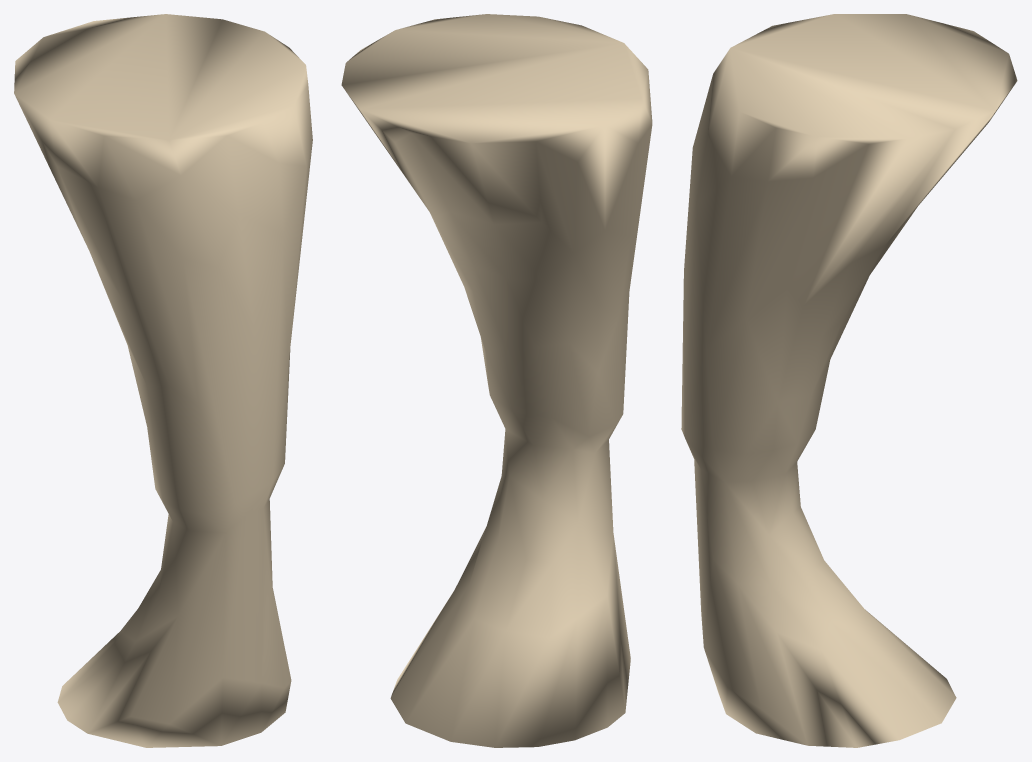
File: Chair.fbx
3 views of the same model, side by side, from view 1: azimuth 30°, elevation 25°; view 2: azimuth 150°, elevation 25°; view 3: azimuth 270°, elevation 25° (orthographic). The views are drawn at different scales.
Visible parts, largest first — view 1: Chair; view 2: Chair; view 3: Chair.
Part boxes in pixels (x1,y1,x2,y2): Chair: (14,14,312,747); Chair: (341,14,652,747); Chair: (681,14,1017,747).
Bounding box in the file's own units: 0.2192 × 0.5 × 0.2449.
